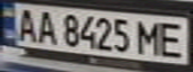2: (93, 14, 115, 52)
4: (78, 14, 96, 50)
5: (112, 16, 136, 54)
8: (57, 11, 81, 47)
A: (12, 6, 39, 43), (33, 8, 57, 45)
E: (154, 20, 190, 58)
M: (133, 18, 163, 56)
